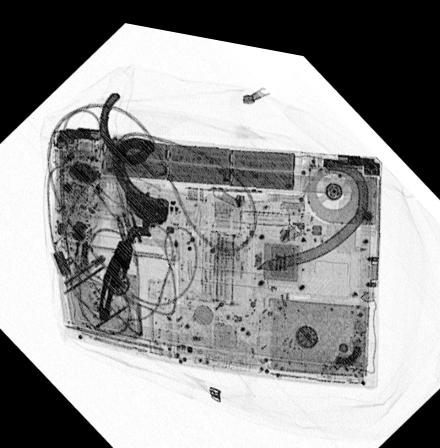HandCuffs: (97, 86, 168, 318)
